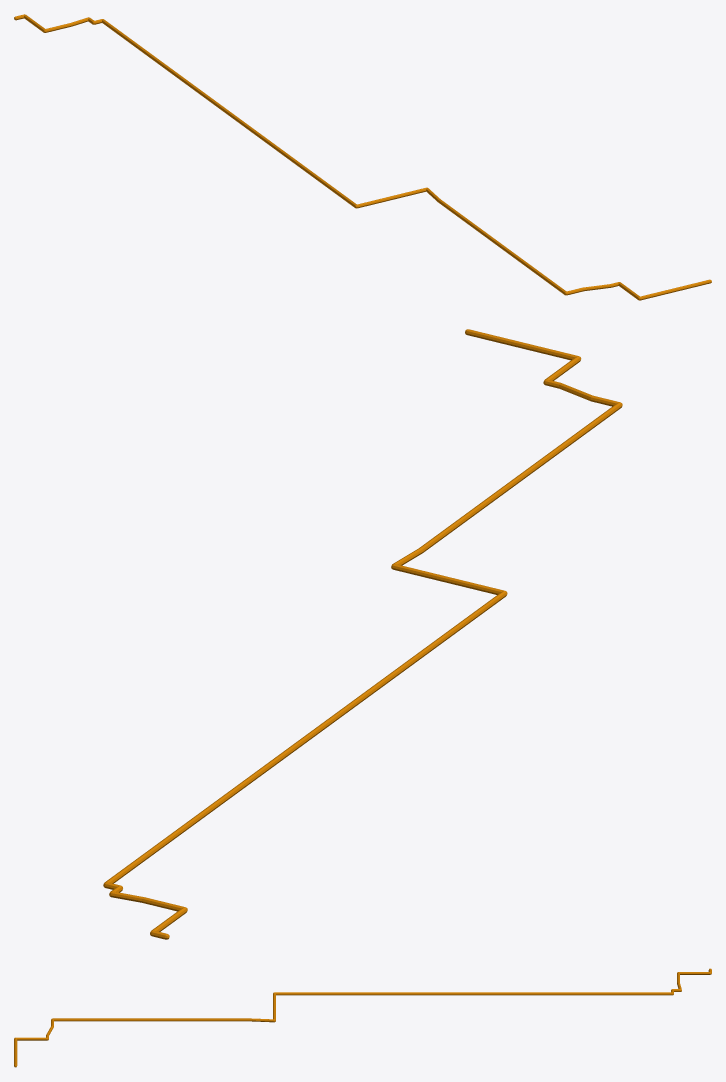
The picture shows the model from 3 angles, top to bottom: view 1: azimuth 30°, elevation 25°; view 2: azimuth 150°, elevation 25°; view 3: azimuth 270°, elevation 25°; orthographic projection. The views are drawn at different scales.
Bounding box in the file's own units: 1447 × 20 × 4383.
